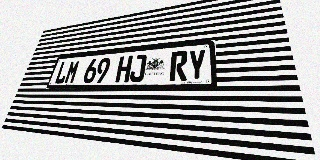6: (82, 58, 100, 83)
9: (94, 57, 111, 83)
H: (115, 55, 133, 82)
J: (129, 54, 147, 82)
L: (54, 61, 71, 84)
M: (63, 60, 81, 84)
R: (169, 50, 188, 81)
Y: (187, 49, 206, 81)
